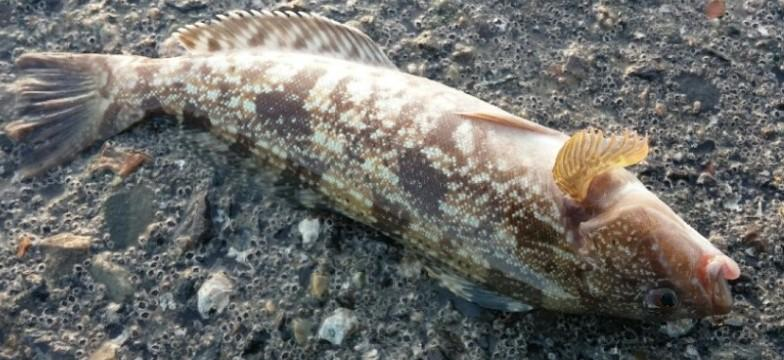fish: (0, 11, 738, 319)
